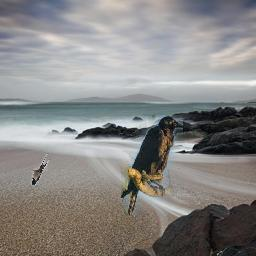Crow: (121, 115, 183, 215)
Swallow: (32, 155, 51, 186)
